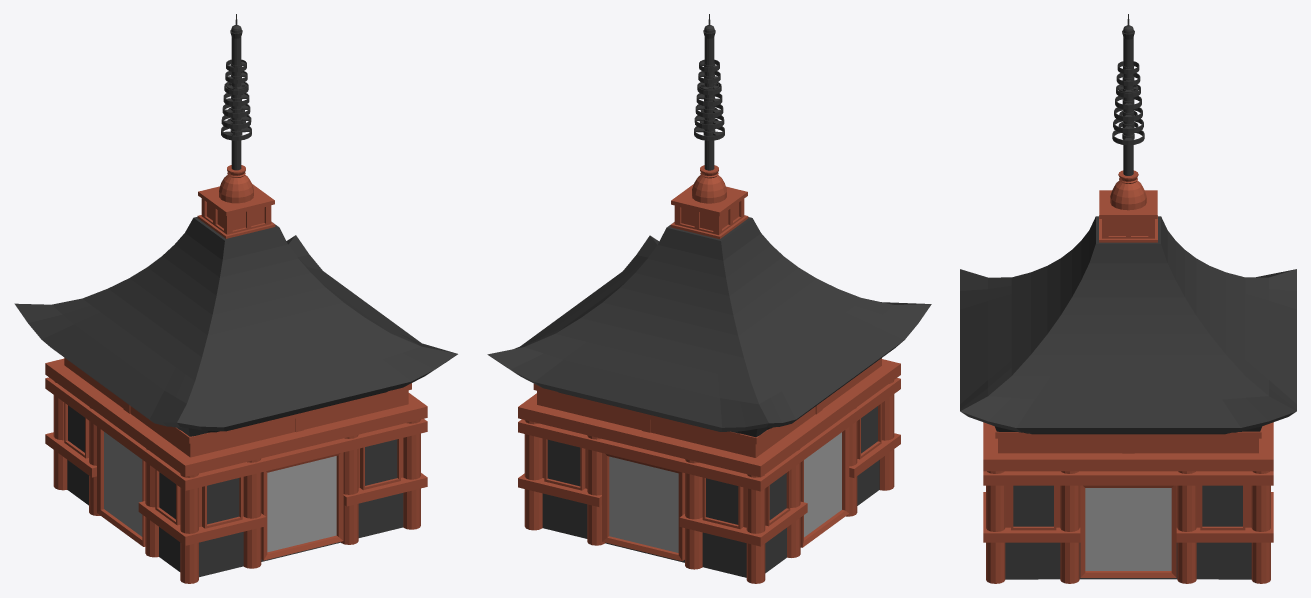
The model's file is Casa.fbx.
The picture shows the model from 3 angles, left to right: view 1: azimuth 30°, elevation 25°; view 2: azimuth 150°, elevation 25°; view 3: azimuth 270°, elevation 25°; orthographic projection. The views are drawn at different scales.
Visible parts, largest first — view 1: Mesh; view 2: Mesh; view 3: Mesh.
Boxes of the visible parts, x1,y1,x2,y2 form: Mesh: (14, 14, 457, 583); Mesh: (487, 14, 931, 583); Mesh: (960, 14, 1296, 583).
Bounding box in the file's own units: 7.32 × 12.22 × 7.32.
